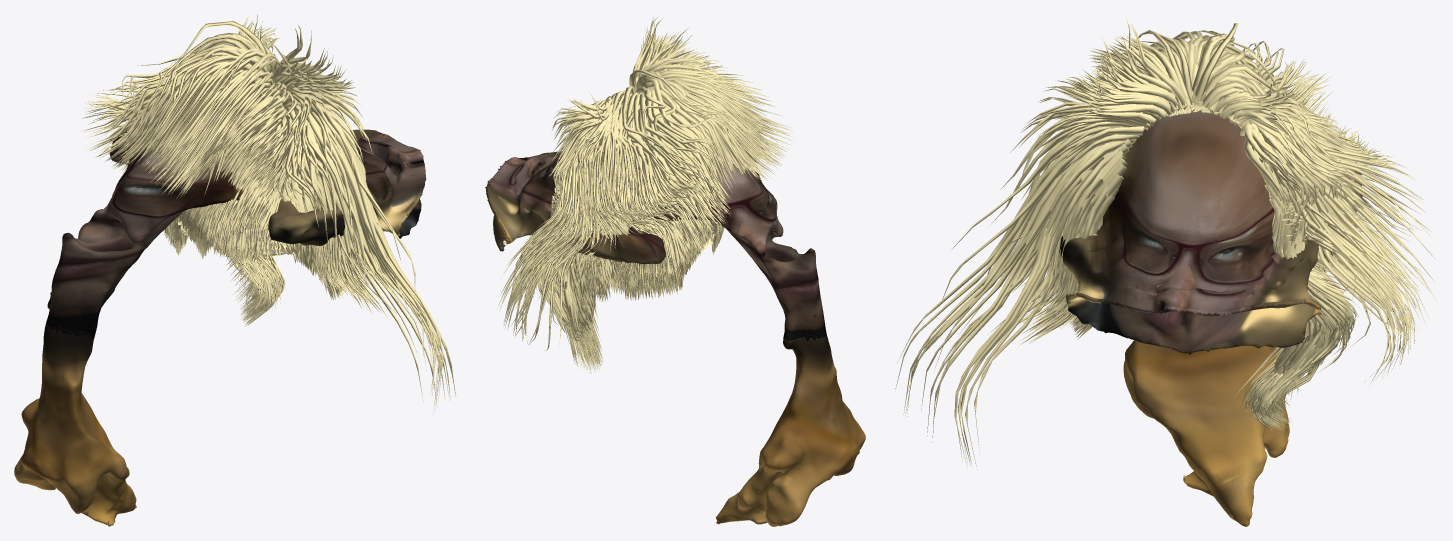
Rendered from hairAndLarynx.glb.
The picture shows the model from 3 angles, left to right: view 1: azimuth 30°, elevation 25°; view 2: azimuth 150°, elevation 25°; view 3: azimuth 270°, elevation 25°; orthographic projection. The views are drawn at different scales.
Visible parts, largest first — view 1: s1-01-bahn-tense-a-inner-surface; view 2: s1-01-bahn-tense-a-inner-surface; view 3: s1-01-bahn-tense-a-inner-surface.
Part boxes in pixels (left/top/right/bottom): s1-01-bahn-tense-a-inner-surface: left=14, top=14, right=456, bottom=526; s1-01-bahn-tense-a-inner-surface: left=485, top=15, right=865, bottom=526; s1-01-bahn-tense-a-inner-surface: left=895, top=16, right=1437, bottom=526.
Size of the model in its own units: 0.7033 by 0.8598 by 0.745.
2 materials, 1 textured.
